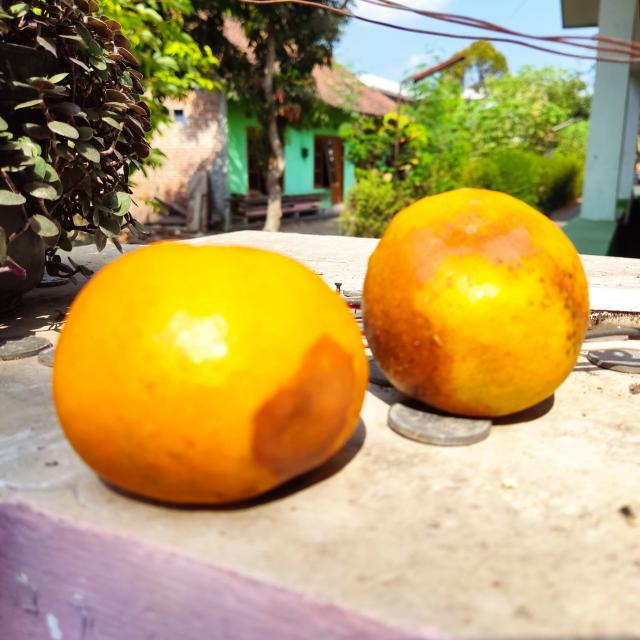orange: (49, 238, 368, 515), (358, 182, 592, 416)
